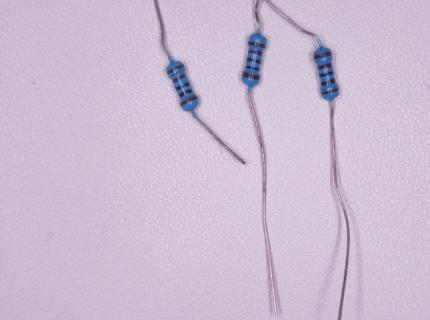Brown band: (172, 74, 187, 84), (317, 63, 332, 70)
